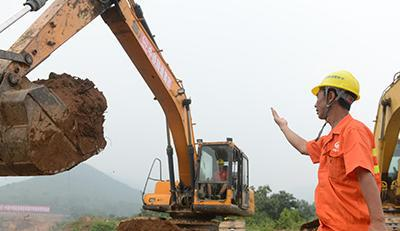helmet: (310, 62, 367, 125)
